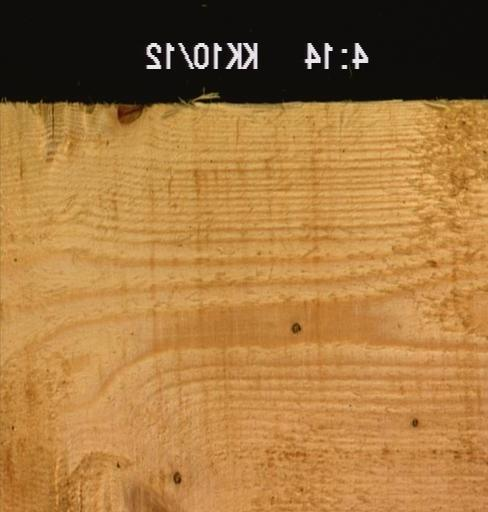dry_knot: (406, 410, 421, 431), (288, 317, 304, 336), (171, 466, 185, 486)
